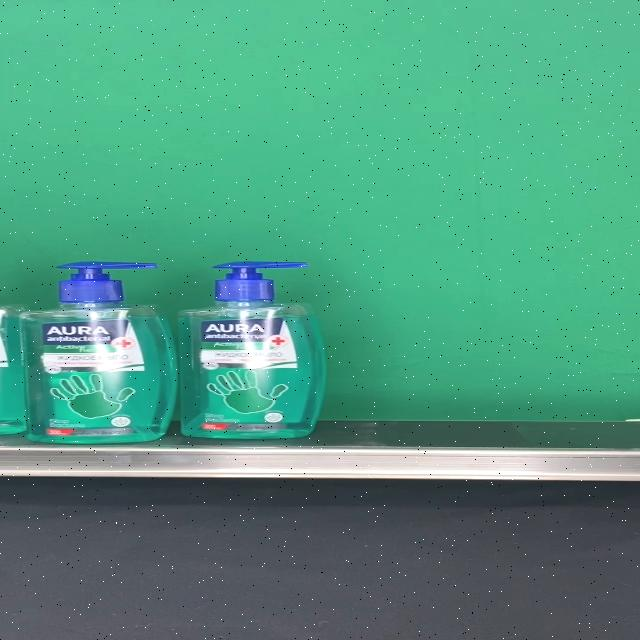Bottle: (20, 262, 178, 444), (180, 262, 325, 439)
Cap: (58, 262, 156, 302), (215, 262, 310, 302)
